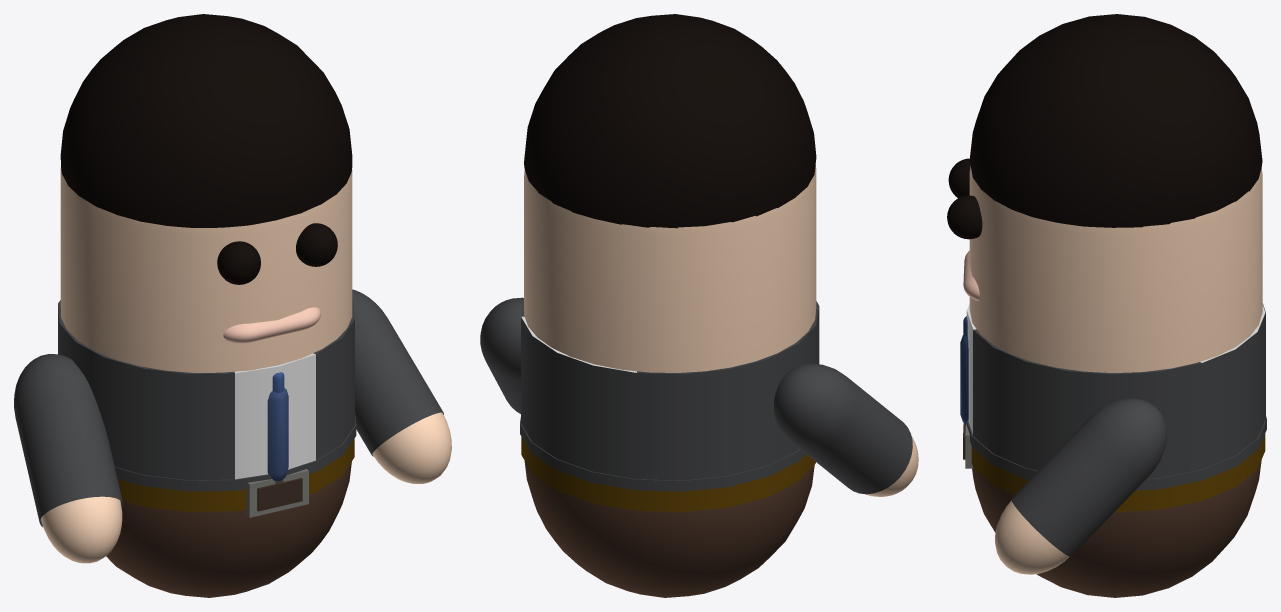
Rendered from adultmale.fbx.
3 views of the same model, side by side, from view 1: azimuth 30°, elevation 25°; view 2: azimuth 150°, elevation 25°; view 3: azimuth 270°, elevation 25° (orthographic).
Parts seen in each view (by area): view 1: Hair.001, Body.001, Vest, Pants_Lower.001, LeftSleeve, RightSleeve, Shirt, LeftArm, RightArm, Pants_Middle, Pants_Upper, Buttons.001 (+5 smaller); view 2: Hair.001, Body.001, Vest, Pants_Lower.001, LeftSleeve, Pants_Middle, Pants_Upper, RightSleeve, LeftArm; view 3: Hair.001, Body.001, Vest, Pants_Lower.001, RightSleeve, Pants_Middle, RightArm, Pants_Upper, LeftEye.001, Shirt, Buttons.001, RightEye.001 (+1 smaller).
Part boxes in pixels (x1,y1,x2,y2): Hair.001: (60, 14, 352, 227); Body.001: (60, 167, 352, 372); Vest: (58, 298, 354, 480); Pants_Lower.001: (106, 461, 351, 597); LeftSleeve: (14, 354, 123, 526); RightSleeve: (352, 289, 443, 456); Shirt: (234, 353, 315, 479); LeftArm: (41, 496, 122, 563); RightArm: (372, 412, 451, 483); Pants_Middle: (117, 439, 354, 511); Pants_Upper: (115, 412, 356, 491); Buttons.001: (267, 388, 288, 480); Hair.001: (524, 14, 816, 228); Body.001: (524, 165, 816, 372); Vest: (521, 300, 819, 480); Pants_Lower.001: (524, 461, 814, 597); LeftSleeve: (774, 363, 912, 494); Pants_Middle: (521, 437, 815, 512); Pants_Upper: (520, 417, 805, 491); RightSleeve: (480, 297, 523, 413); LeftArm: (865, 435, 918, 496); Hair.001: (969, 14, 1262, 227); Body.001: (969, 166, 1262, 372); Vest: (973, 303, 1265, 478); Pants_Lower.001: (972, 460, 1261, 597); RightSleeve: (1011, 398, 1167, 556); Pants_Middle: (971, 434, 1265, 512); RightArm: (995, 500, 1069, 574); Pants_Upper: (965, 416, 1266, 490); LeftEye.001: (947, 195, 982, 239); Shirt: (966, 304, 1265, 434); Buttons.001: (960, 335, 968, 424); RightEye.001: (948, 158, 970, 198).
Bounding box in the file's own units: 158 × 210 × 109.
